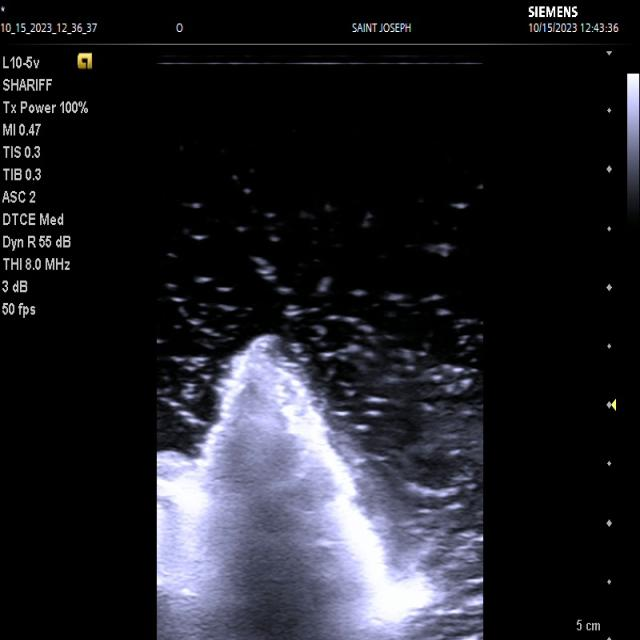tissue: (158, 335, 435, 640)
